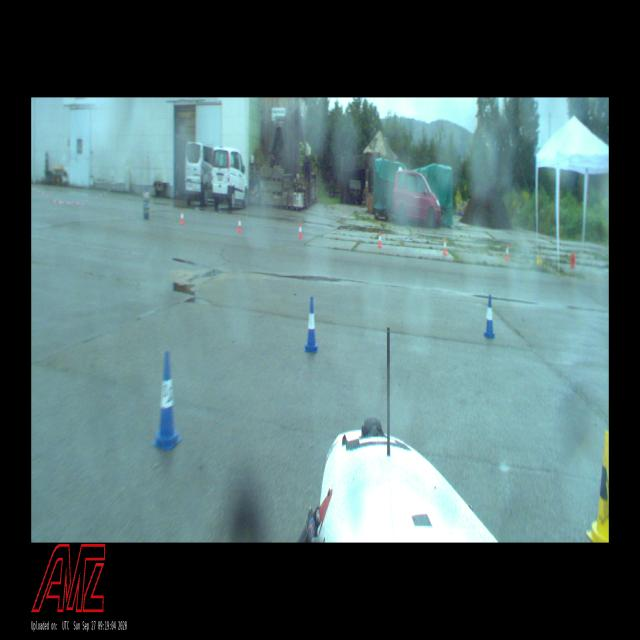blue_cone: (155, 352, 179, 448), (306, 297, 318, 352), (485, 296, 494, 338)
orange_cone: (378, 231, 382, 248), (505, 246, 509, 262), (180, 210, 184, 225), (570, 255, 574, 267), (238, 218, 241, 232), (299, 224, 302, 238), (444, 240, 446, 256)
yellow_cone: (591, 429, 609, 542)
